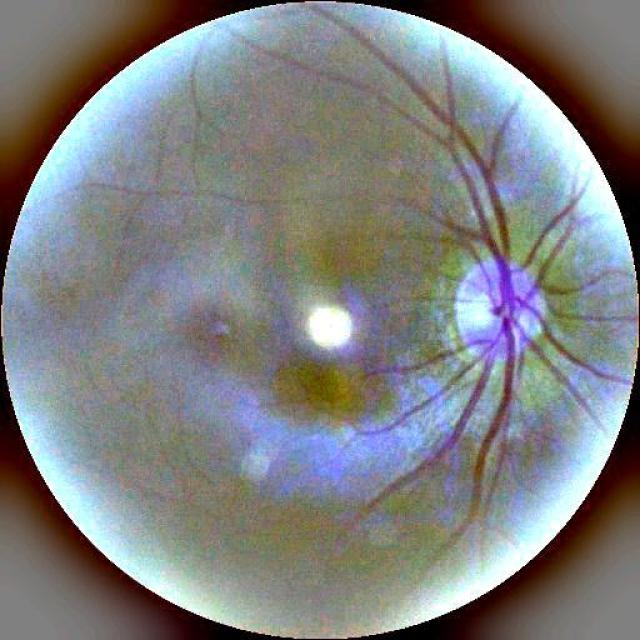Macula: (202, 314, 239, 341)
Nerves: (214, 3, 632, 558)
Optic Disk: (454, 258, 542, 359)
